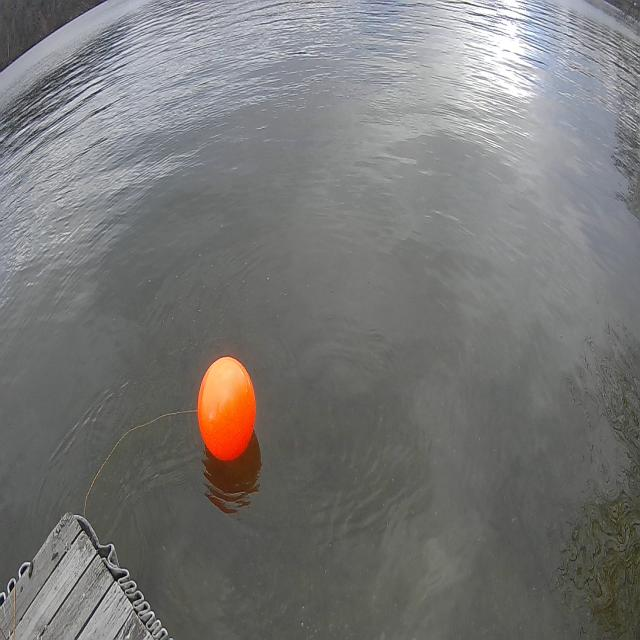Buoy: (195, 353, 259, 468)
